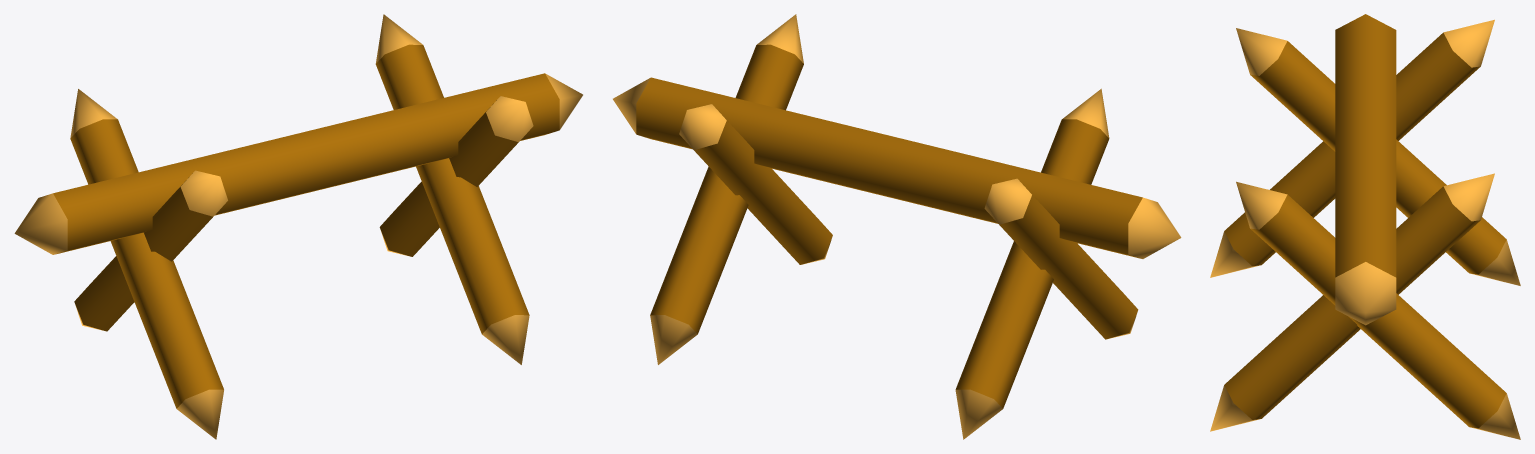
File: fence1.fbx
The picture shows the model from 3 angles, left to right: view 1: azimuth 30°, elevation 25°; view 2: azimuth 150°, elevation 25°; view 3: azimuth 270°, elevation 25°; orthographic projection. The views are drawn at different scales.
Parts seen in each view (by area): view 1: fence1; view 2: fence1; view 3: fence1.
Boxes of the visible parts, x1,y1,x2,y2 form: fence1: (14, 14, 582, 439); fence1: (613, 14, 1181, 439); fence1: (1210, 14, 1520, 439).
Size of the model in its own units: 180 by 75.78 by 82.64.
